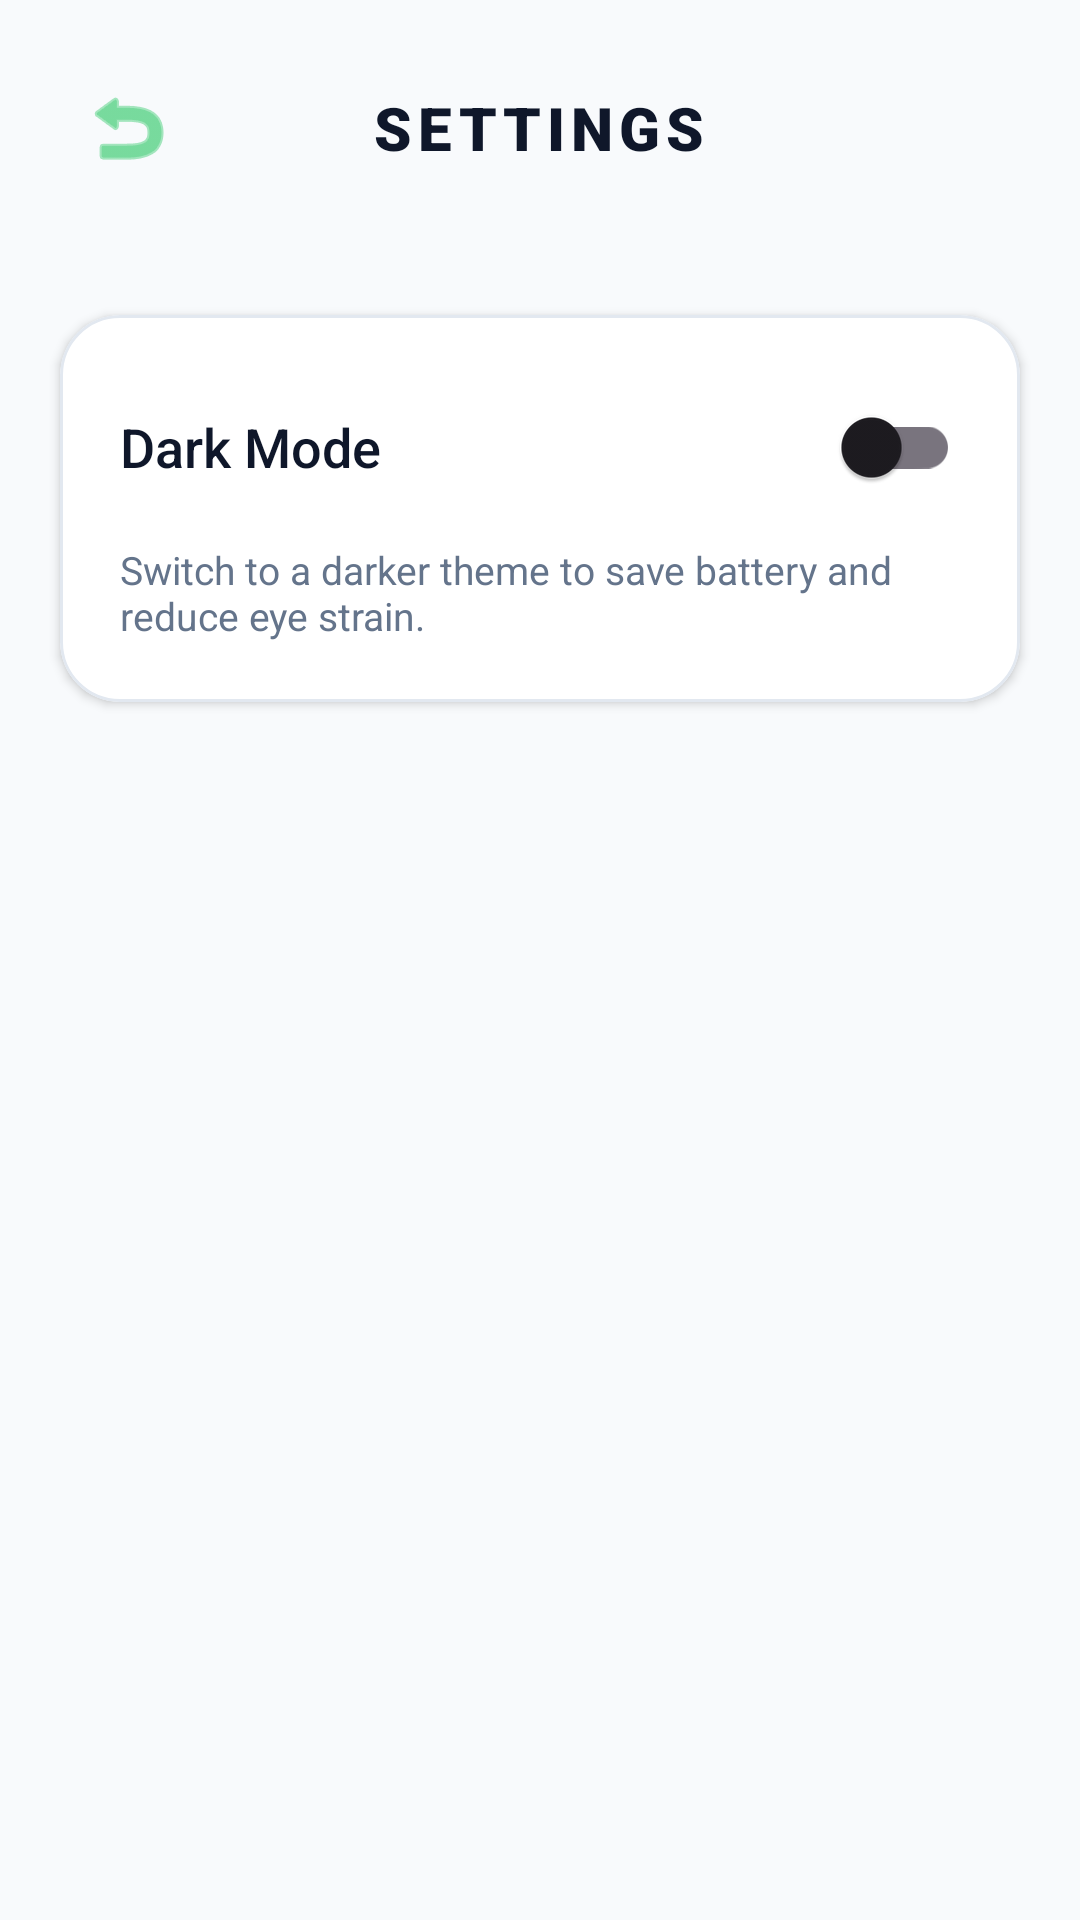

Where to tap for icons on this 1080*1920 app screen, as point (x, y):
revert: point (129, 128)
